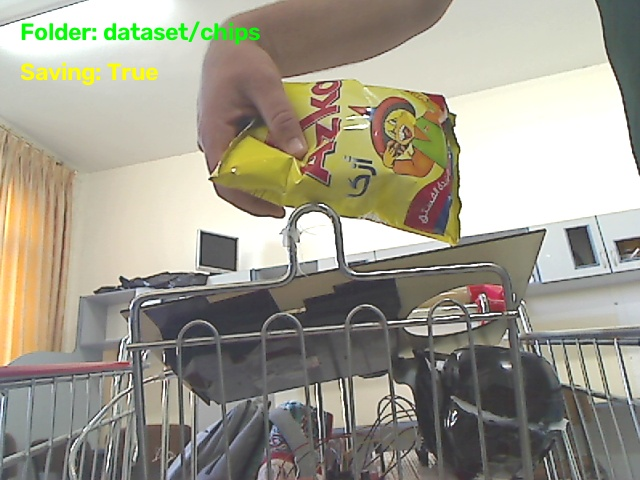chips: (211, 80, 460, 243)
